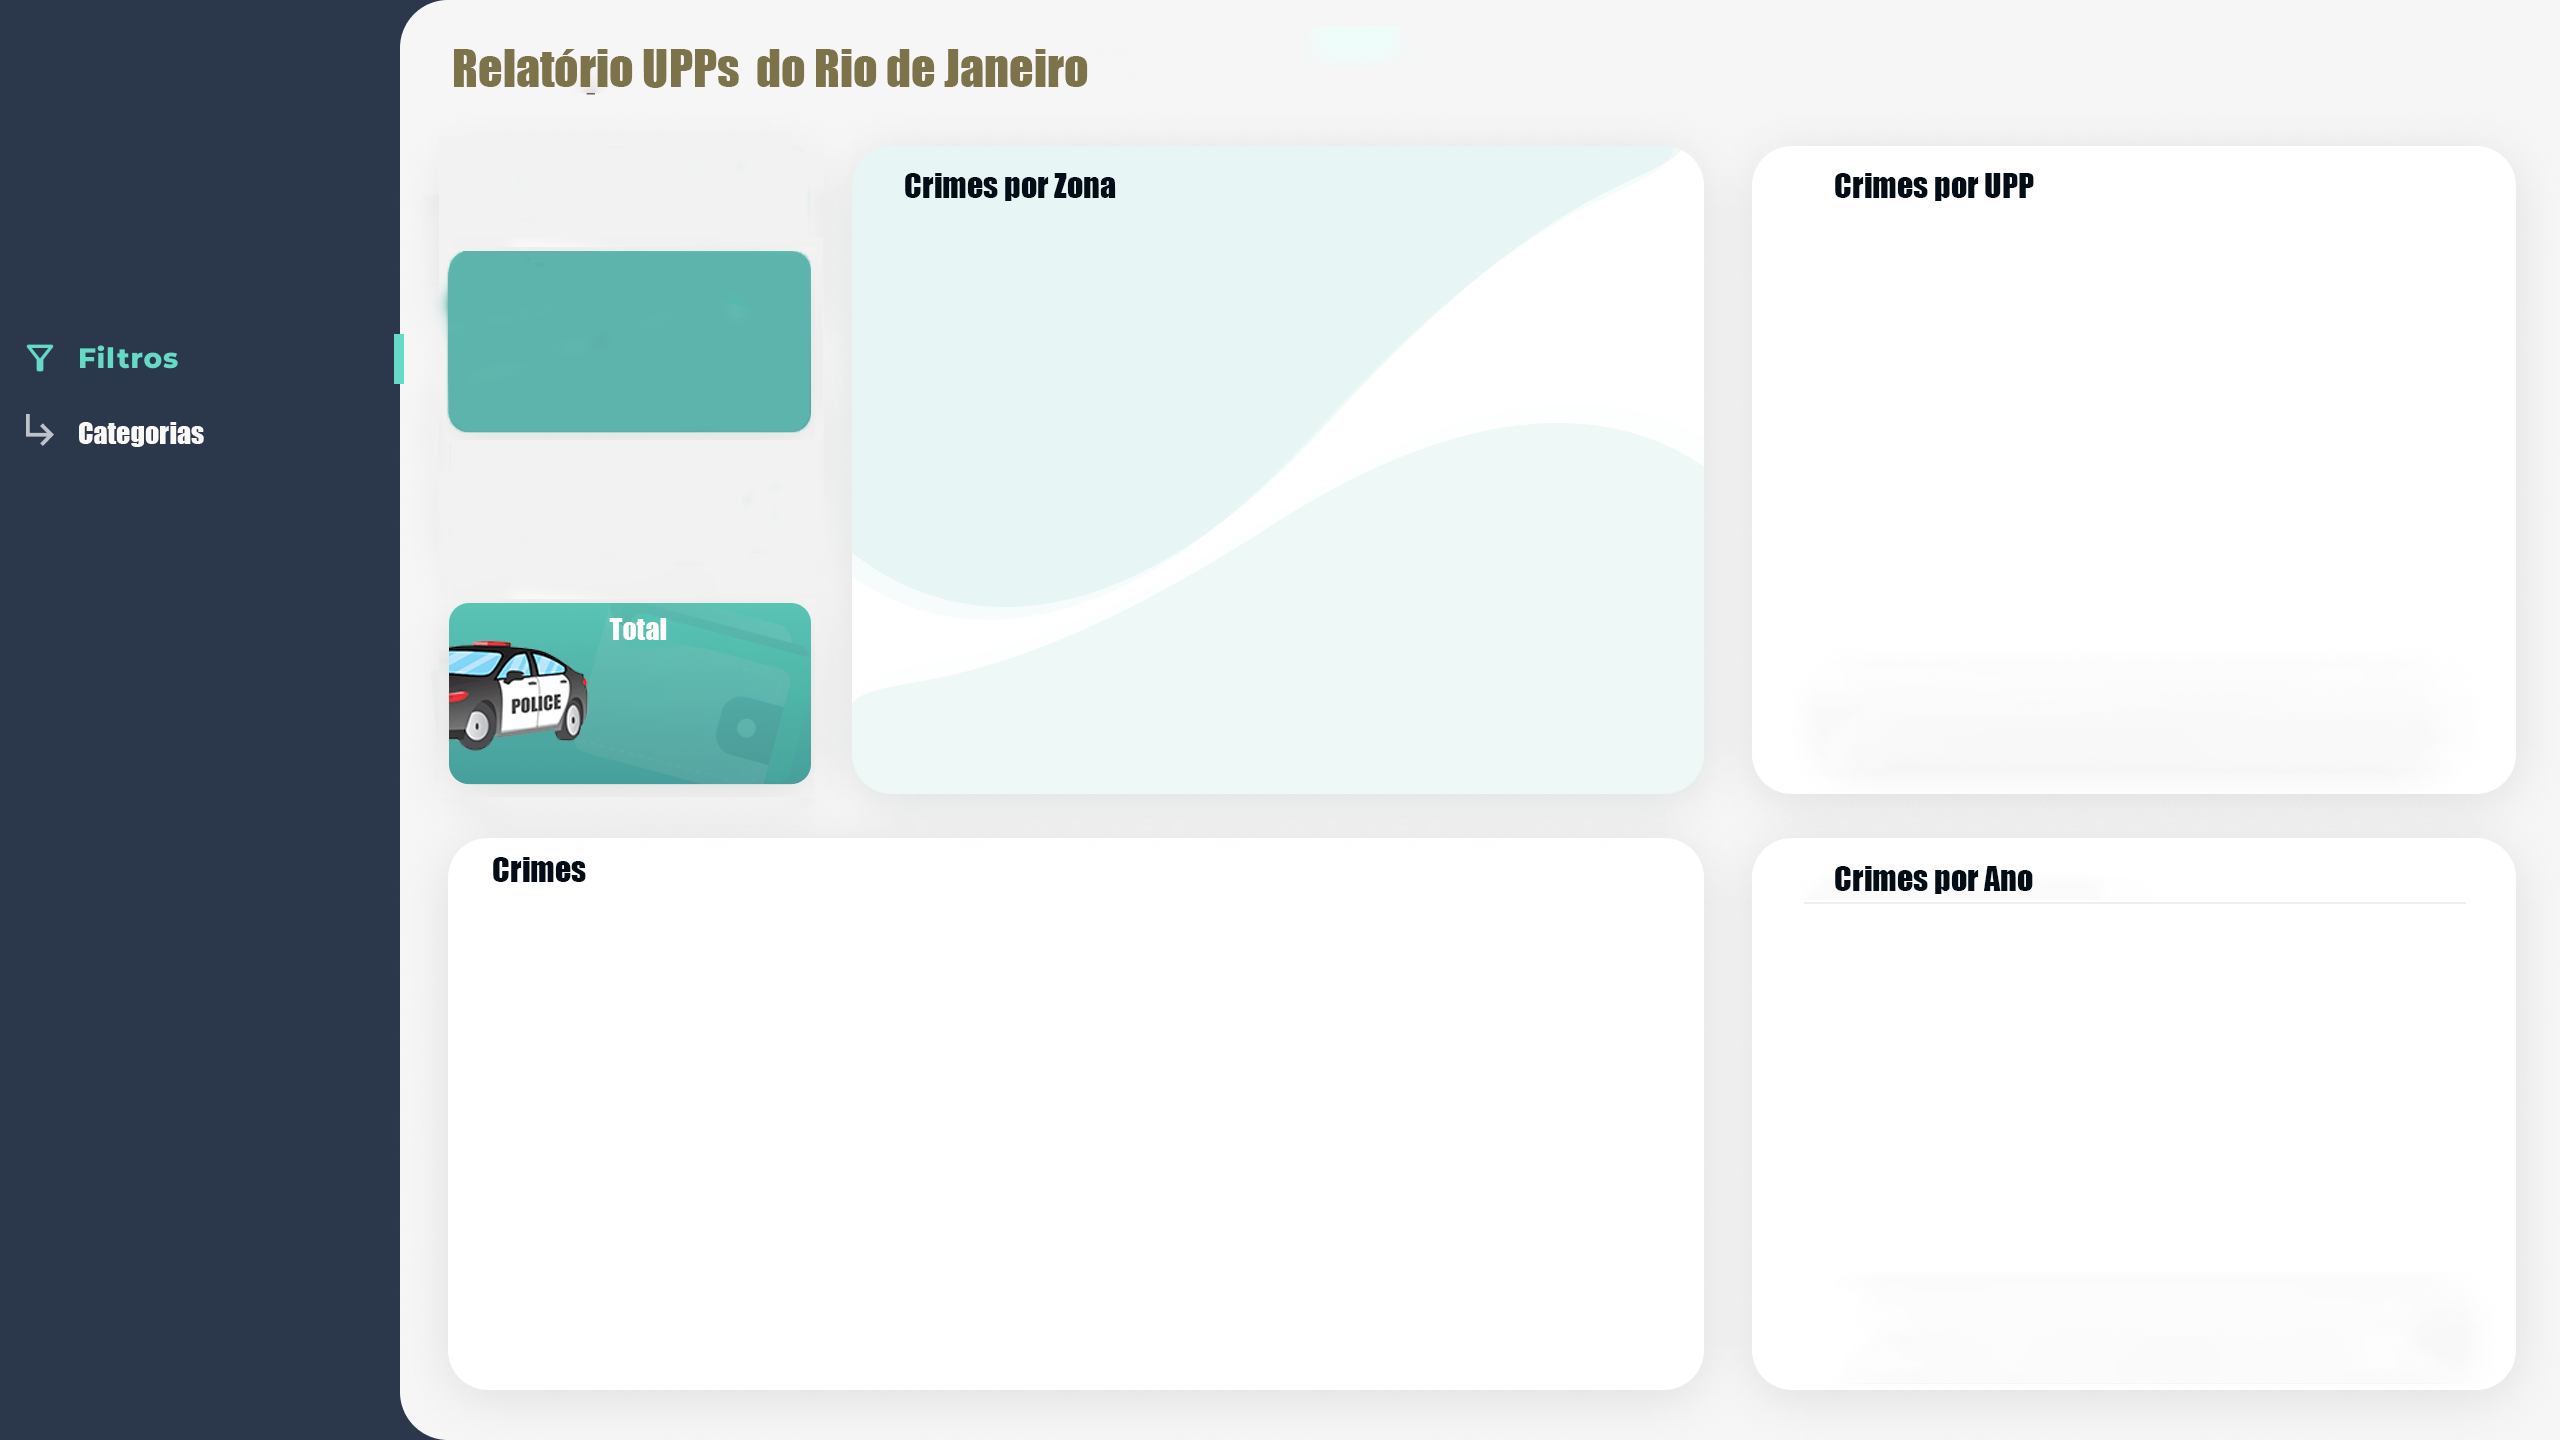

The page's visual inventory and layout, read from the dashboard file:
{"tool":"powerbi","page":{"name":"Página 1","canvas":[1280,720],"ordinal":0},"visuals":[{"type":"clusteredColumnChart","fields":{"Y":["Sum(public fato.quantidade)"],"Category":["public tempo.data.Variation.Hierarquia de datas.Ano","public tempo.data.Variation.Hierarquia de datas.Mês"]},"box":[891,455.6,352.1,228.5],"z":0},{"type":"treemap","fields":{"Values":["Sum(public fato.quantidade)"],"Group":["public upp.zona"]},"box":[438.3,109.2,399.5,271.6],"z":1000},{"type":"tableEx","fields":{"Values":["public ocorrencia.descricao","Sum(public fato.quantidade)","Divide(Sum(public fato.quantidade), ScopedEval(Sum(public fato.quantidade), []))","public ocorrencia.contagem","SparklineData(Sum(public fato.quantidade)_[public tempo.data.Variation.Hierarquia de datas.Ano])"]},"box":[235.7,444.1,602.2,240],"z":2000},{"type":"slicer","fields":{"Values":["public ocorrencia.categoria","public fato.quantidade"]},"box":[10.1,237.1,184,143.7],"z":3000},{"type":"card","fields":{"Values":["Sum(public fato.quantidade)"]},"box":[280.2,324.8,120.7,56],"z":4000},{"type":"barChart","fields":{"Category":["public upp.upp"],"Y":["Sum(public fato.quantidade)"]},"box":[891,106.3,352.1,274.5],"z":5000},{"type":"slicer","fields":{"Values":["public tempo.data.Variation.Hierarquia de datas.Ano"]},"box":[227.1,130.8,173.9,106.3],"z":6001}]}

Visuals, with their boxes on the page's 1280x720 design canvas (x1, y1, x2, y2). These are canvas units, not pixel positions in the 2560x1440 screenshot, which may show the page scaled, cropped or inside an application window:
clusteredColumnChart - Sum(public fato.quantidade) x public tempo.data.Variation.Hierarquia de datas.Ano: (left=891, top=456, right=1243, bottom=684)
treemap - Sum(public fato.quantidade) x public upp.zona: (left=438, top=109, right=838, bottom=381)
tableEx - public ocorrencia.descricao x Sum(public fato.quantidade): (left=236, top=444, right=838, bottom=684)
slicer - public ocorrencia.categoria x public fato.quantidade: (left=10, top=237, right=194, bottom=381)
card - Sum(public fato.quantidade): (left=280, top=325, right=401, bottom=381)
barChart - public upp.upp x Sum(public fato.quantidade): (left=891, top=106, right=1243, bottom=381)
slicer - public tempo.data.Variation.Hierarquia de datas.Ano: (left=227, top=131, right=401, bottom=237)
